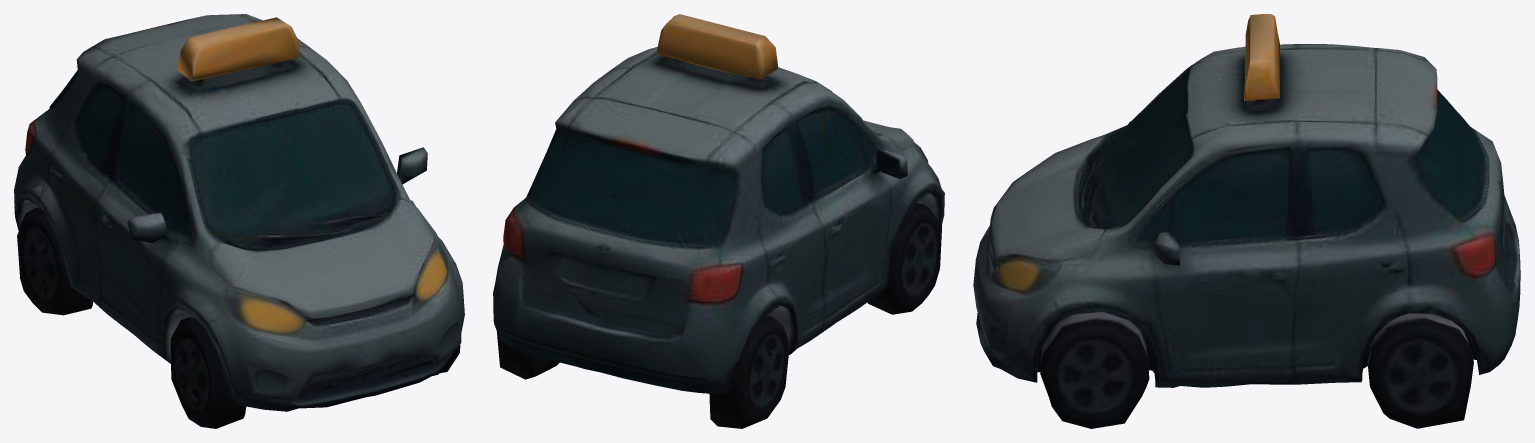
The model's file is taksowka.glb.
The picture shows the model from 3 angles, left to right: view 1: azimuth 30°, elevation 25°; view 2: azimuth 150°, elevation 25°; view 3: azimuth 270°, elevation 25°; orthographic projection. The views are drawn at different scales.
Parts seen in each view (by area): view 1: tripo_node_e6b6ddc9-b7b0-4c3c-a8a4-192eca218cea; view 2: tripo_node_e6b6ddc9-b7b0-4c3c-a8a4-192eca218cea; view 3: tripo_node_e6b6ddc9-b7b0-4c3c-a8a4-192eca218cea.
Part boxes in pixels (box(x1,y1,x2,y2)): tripo_node_e6b6ddc9-b7b0-4c3c-a8a4-192eca218cea: box(14, 14, 464, 428); tripo_node_e6b6ddc9-b7b0-4c3c-a8a4-192eca218cea: box(493, 14, 944, 428); tripo_node_e6b6ddc9-b7b0-4c3c-a8a4-192eca218cea: box(973, 14, 1520, 428).
Size of the model in its own units: 0.6706 by 0.6621 by 1.
Materials: 1 (1 with a texture image).
